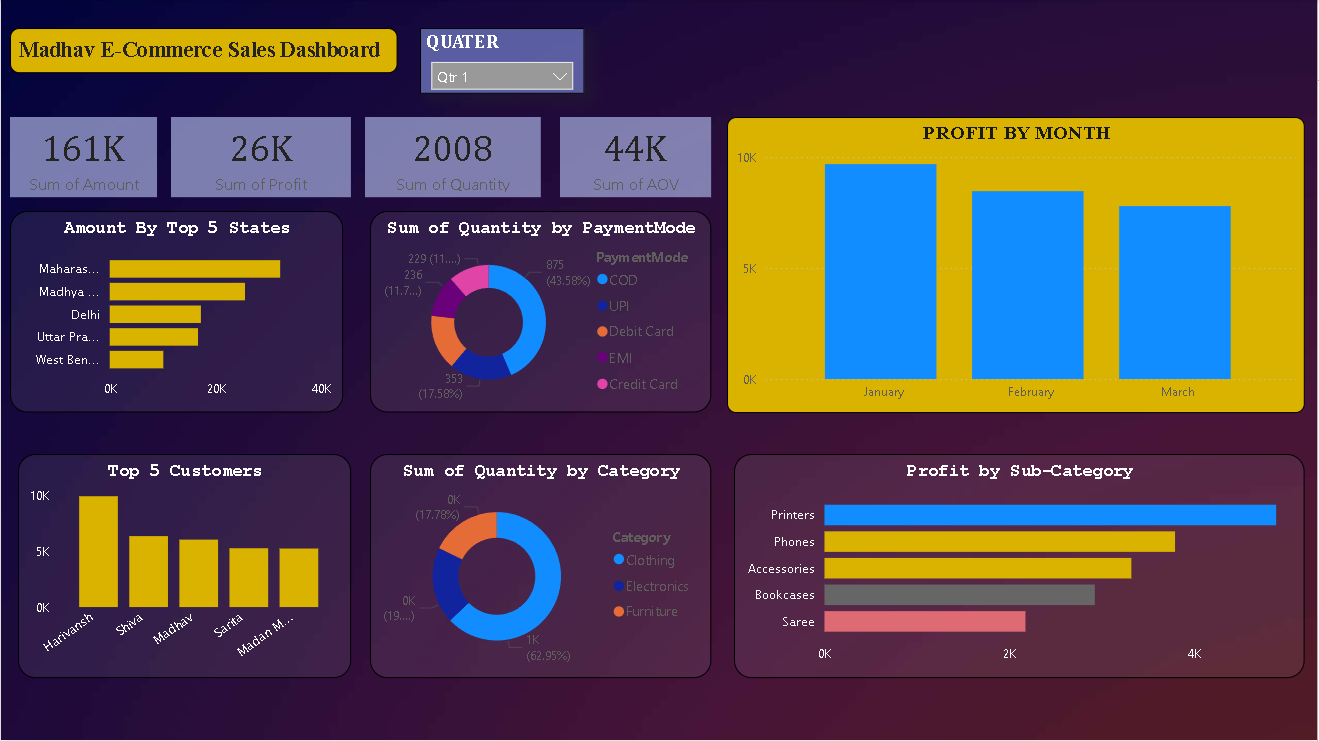

Layout of this report page (visuals, bound fields, positions):
{"tool":"powerbi","page":{"name":"Page 1","canvas":[1280,720],"ordinal":0},"visuals":[{"type":"textbox","box":[8.8,27.2,377.4,43.8],"z":0},{"type":"columnChart","title":"PROFIT BY MONTH","fields":{"Category":["Orders.Order Date.Variation.Date Hierarchy.Month"],"Y":["Details.Profit"]},"box":[706.1,113.8,562.2,287.9],"z":1000},{"type":"barChart","title":"Profit by Sub-Category","fields":{"Category":["Details.Sub-Category"],"Y":["Details.Profit"]},"box":[712.9,441.6,555.4,217.9],"z":2000},{"type":"donutChart","fields":{"Category":["Details.Category"],"Y":["Details.Quantity"]},"box":[358.9,441.6,331.7,217.9],"z":3000},{"type":"donutChart","fields":{"Y":["Details.Quantity"],"Category":["Details.PaymentMode"]},"box":[358.9,205.2,331.7,196.5],"z":4000},{"type":"card","fields":{"Values":["Details.Amount"]},"box":[8.8,113.8,143,77.8],"z":5000},{"type":"card","fields":{"Values":["Details.Profit"]},"box":[165.3,113.8,175.1,77.8],"z":6000},{"type":"card","fields":{"Values":["Details.Quantity"]},"box":[354,113.8,171.2,77.8],"z":7000},{"type":"card","fields":{"Values":["Details.AOV"]},"box":[543.7,113.8,146.9,77.8],"z":8000},{"type":"barChart","title":"Amount By Top 5 States","fields":{"Category":["Orders.State"],"Y":["Details.Amount"]},"box":[8.8,205.2,323.9,196.5],"z":9000},{"type":"columnChart","title":"Top 5 Customers","fields":{"Category":["Orders.CustomerName"],"Y":["Details.Amount"]},"box":[16.5,441.6,323.9,217.9],"z":10000},{"type":"slicer","title":"QUATER","fields":{"Values":["Orders.Order Date.Variation.Date Hierarchy.Quarter"]},"box":[407.5,27.2,159.5,64.2],"z":11000}]}

Visuals, with their boxes in screenshot pixels (x1, y1, x2, y2), scaled from the page's 1280x720 canvas onto the 1319x741 screenshot:
textbox: region(9, 28, 398, 73)
"PROFIT BY MONTH" columnChart: region(728, 117, 1307, 413)
"Profit by Sub-Category" barChart: region(735, 454, 1307, 679)
donutChart - Details.Category x Details.Quantity: region(370, 454, 712, 679)
donutChart - Details.Quantity x Details.PaymentMode: region(370, 211, 712, 413)
card - Details.Amount: region(9, 117, 156, 197)
card - Details.Profit: region(170, 117, 351, 197)
card - Details.Quantity: region(365, 117, 541, 197)
card - Details.AOV: region(560, 117, 712, 197)
"Amount By Top 5 States" barChart: region(9, 211, 343, 413)
"Top 5 Customers" columnChart: region(17, 454, 351, 679)
"QUATER" slicer: region(420, 28, 584, 94)
